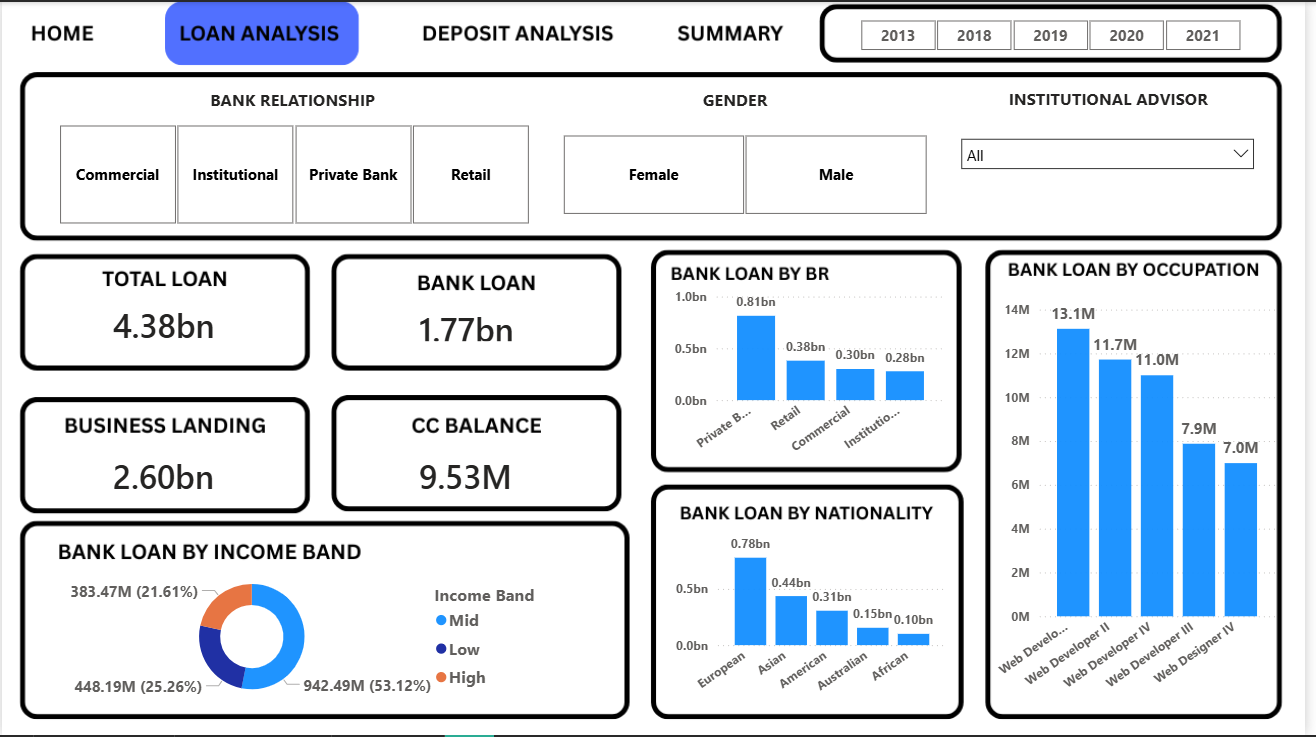

What the dashboard file says about the page in this screenshot:
{"tool":"powerbi","page":{"name":"Loan analysis","canvas":[1280,720],"ordinal":1},"visuals":[{"type":"slicer","fields":{"Values":["banking_case customer.Year of Joining"]},"box":[817.2,11,422.1,39.3],"z":0},{"type":"actionButton","box":[12.3,11,99.4,40.5],"z":1000},{"type":"actionButton","box":[391.4,0,217.2,51.5],"z":2000},{"type":"actionButton","box":[640.5,11,139.9,40.5],"z":3000},{"type":"cardVisual","fields":{"Data":["banking_case customer.Total Loan"]},"box":[79.8,279.8,186.5,71.2],"z":4000},{"type":"cardVisual","fields":{"Data":["Sum(banking_case customer.Bank Loans)"]},"box":[380.4,288.3,186.5,62.6],"z":5000},{"type":"cardVisual","fields":{"Data":["Sum(banking_case customer.Business Lending)"]},"box":[79.8,431.9,186.5,65],"z":6000},{"type":"cardVisual","fields":{"Data":["Sum(banking_case customer.Credit Card Balance)"]},"box":[380.4,431.9,186.5,65],"z":7000},{"type":"donutChart","fields":{"Category":["banking_case customer.Income Band"],"Y":["Sum(banking_case customer.Bank Loans)"]},"box":[61.6,551.6,490,141.9],"z":8000},{"type":"clusteredColumnChart","fields":{"Category":["banking_case customer.BRId"],"Y":["Sum(banking_case customer.Bank Loans)"]},"box":[655.2,271.2,276.1,182.8],"z":9000},{"type":"clusteredColumnChart","fields":{"Category":["banking_case customer.Nationality"],"Y":["Sum(banking_case customer.Bank Loans)"]},"box":[656.4,511.7,276.1,182.8],"z":10000},{"type":"clusteredColumnChart","fields":{"Y":["Sum(banking_case customer.Bank Loans)"],"Category":["banking_case customer.Occupation"]},"box":[968.8,279.9,285.4,414.4],"z":11000},{"type":"slicer","fields":{"Values":["banking_case customer.BRId"]},"box":[30.7,114.1,510.4,110.4],"z":12000},{"type":"textbox","box":[157.1,79.8,256.4,34.4],"z":13000},{"type":"slicer","fields":{"Values":["banking_case customer.GenderId"]},"box":[525.2,123.9,406.1,90.8],"z":14000},{"type":"textbox","box":[656.4,79.8,126.4,34.4],"z":15000},{"type":"slicer","fields":{"Values":["banking_case customer.B(Investment Advisor)"]},"box":[931.3,123.9,308,81],"z":16000},{"type":"textbox","box":[979.1,78.5,213.5,35.6],"z":17000}]}

Visuals, with their boxes in screenshot pixels (x1, y1, x2, y2), scaled from the page's 1280x720 canvas onto the 1316x737 screenshot:
slicer - banking_case customer.Year of Joining: bbox=(840, 11, 1274, 51)
actionButton: bbox=(13, 11, 115, 53)
actionButton: bbox=(402, 0, 626, 53)
actionButton: bbox=(659, 11, 802, 53)
cardVisual - banking_case customer.Total Loan: bbox=(82, 286, 274, 359)
cardVisual - Sum(banking_case customer.Bank Loans): bbox=(391, 295, 583, 359)
cardVisual - Sum(banking_case customer.Business Lending): bbox=(82, 442, 274, 509)
cardVisual - Sum(banking_case customer.Credit Card Balance): bbox=(391, 442, 583, 509)
donutChart - banking_case customer.Income Band x Sum(banking_case customer.Bank Loans): bbox=(63, 565, 567, 710)
clusteredColumnChart - banking_case customer.BRId x Sum(banking_case customer.Bank Loans): bbox=(674, 278, 957, 465)
clusteredColumnChart - banking_case customer.Nationality x Sum(banking_case customer.Bank Loans): bbox=(675, 524, 959, 711)
clusteredColumnChart - Sum(banking_case customer.Bank Loans) x banking_case customer.Occupation: bbox=(996, 287, 1289, 711)
slicer - banking_case customer.BRId: bbox=(32, 117, 556, 230)
textbox: bbox=(162, 82, 425, 117)
slicer - banking_case customer.GenderId: bbox=(540, 127, 957, 220)
textbox: bbox=(675, 82, 805, 117)
slicer - banking_case customer.B(Investment Advisor): bbox=(957, 127, 1274, 210)
textbox: bbox=(1007, 80, 1226, 117)
